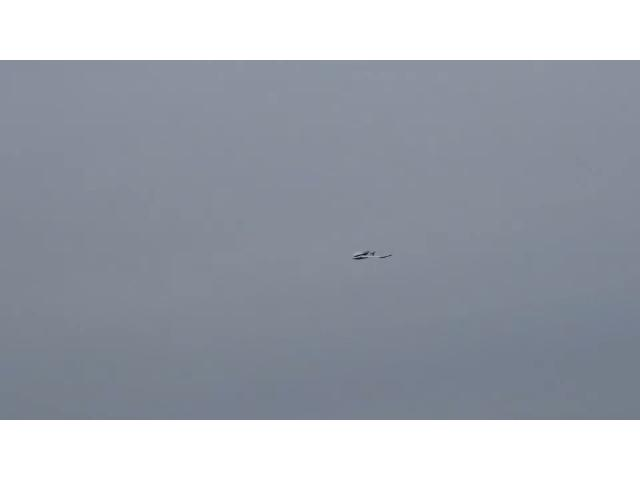Anti-Drone: (354, 252, 390, 260)
